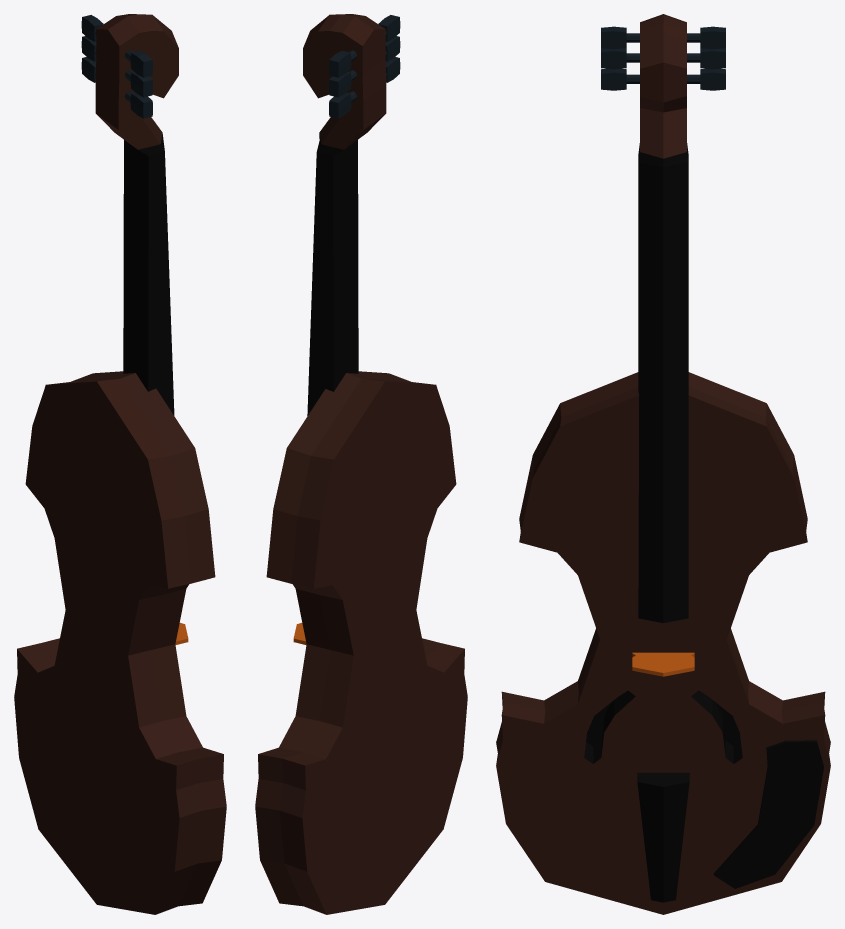
Rendered from Violin_01.obj.
The picture shows the model from 3 angles, left to right: view 1: azimuth 30°, elevation 25°; view 2: azimuth 150°, elevation 25°; view 3: azimuth 270°, elevation 25°; orthographic projection.
Visible parts, largest first — view 1: Violin_Circle.005; view 2: Violin_Circle.005; view 3: Violin_Circle.005.
Boxes of the visible parts, <box> form: Violin_Circle.005: <box>14,14,226,914</box>; Violin_Circle.005: <box>255,14,467,914</box>; Violin_Circle.005: <box>496,14,830,914</box>.
Bounding box in the file's own units: 1.66 × 15.78 × 5.37.
